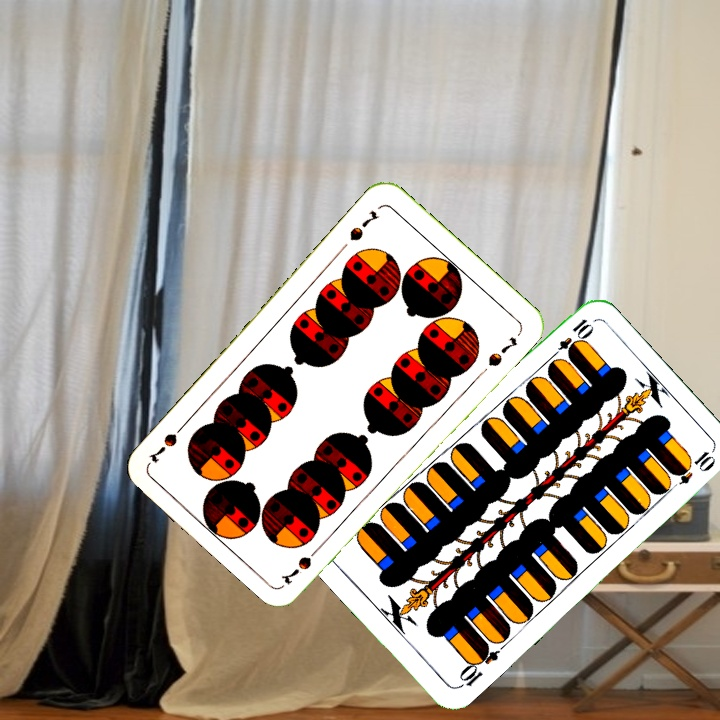E10: (454, 640, 501, 692), (546, 314, 595, 363)
S7: (279, 540, 326, 588), (345, 205, 382, 244)
